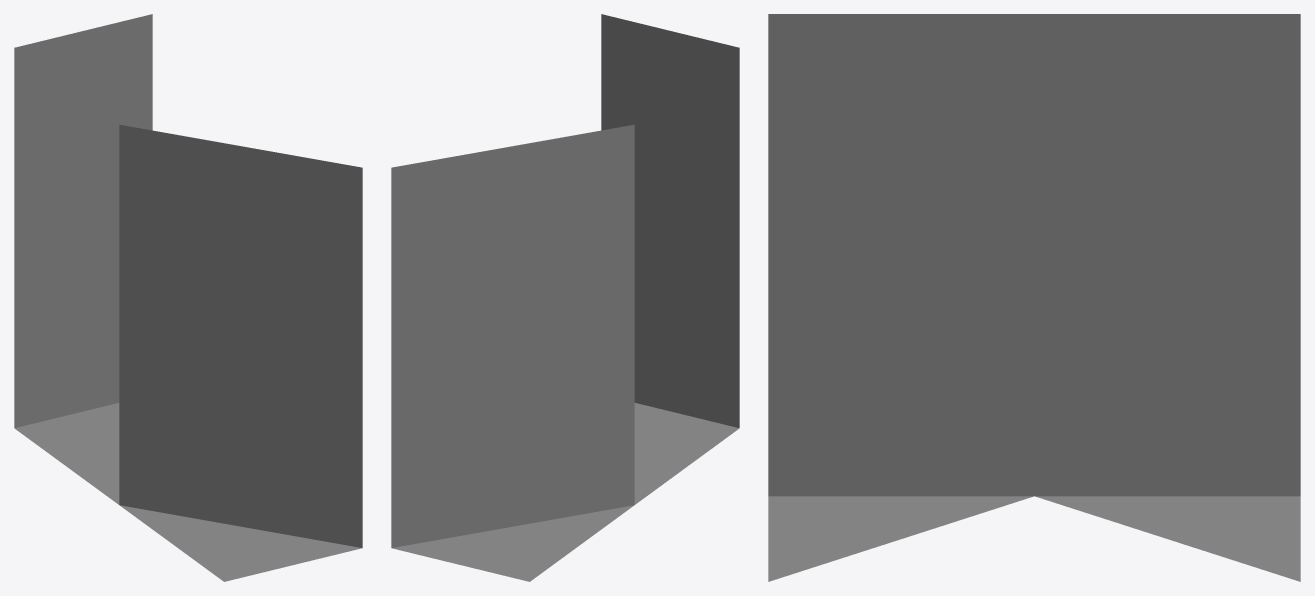
File: r3c7_border_grey.gltf
3 renders of one model, left to right at view 1: azimuth 30°, elevation 25°; view 2: azimuth 150°, elevation 25°; view 3: azimuth 270°, elevation 25°, orthographic. The views are drawn at different scales.
Visible parts, largest first — view 1: r3c7_border_grey; view 2: r3c7_border_grey; view 3: r3c7_border_grey.
Boxes of the visible parts, <box> form: r3c7_border_grey: <box>14,14,362,581</box>; r3c7_border_grey: <box>391,14,739,581</box>; r3c7_border_grey: <box>768,14,1300,581</box>.
Size of the model in its own units: 0.8 by 2.1 by 2.1.
1 material, 1 textured.
